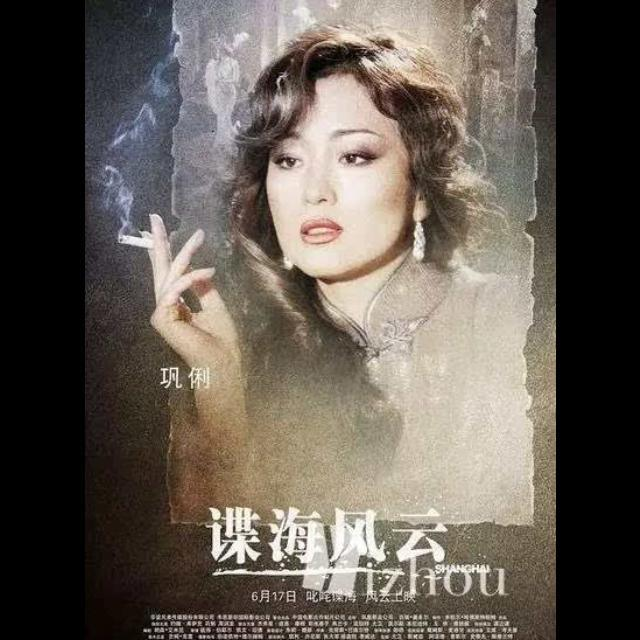rokok: (114, 220, 166, 258)
